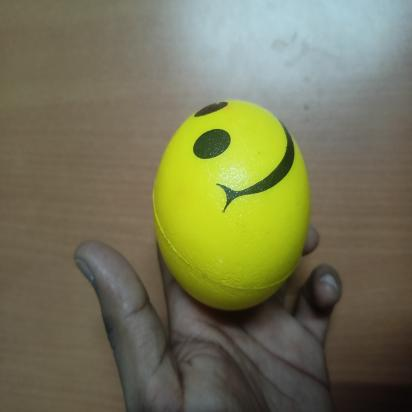Yellowball: (144, 90, 319, 316)
